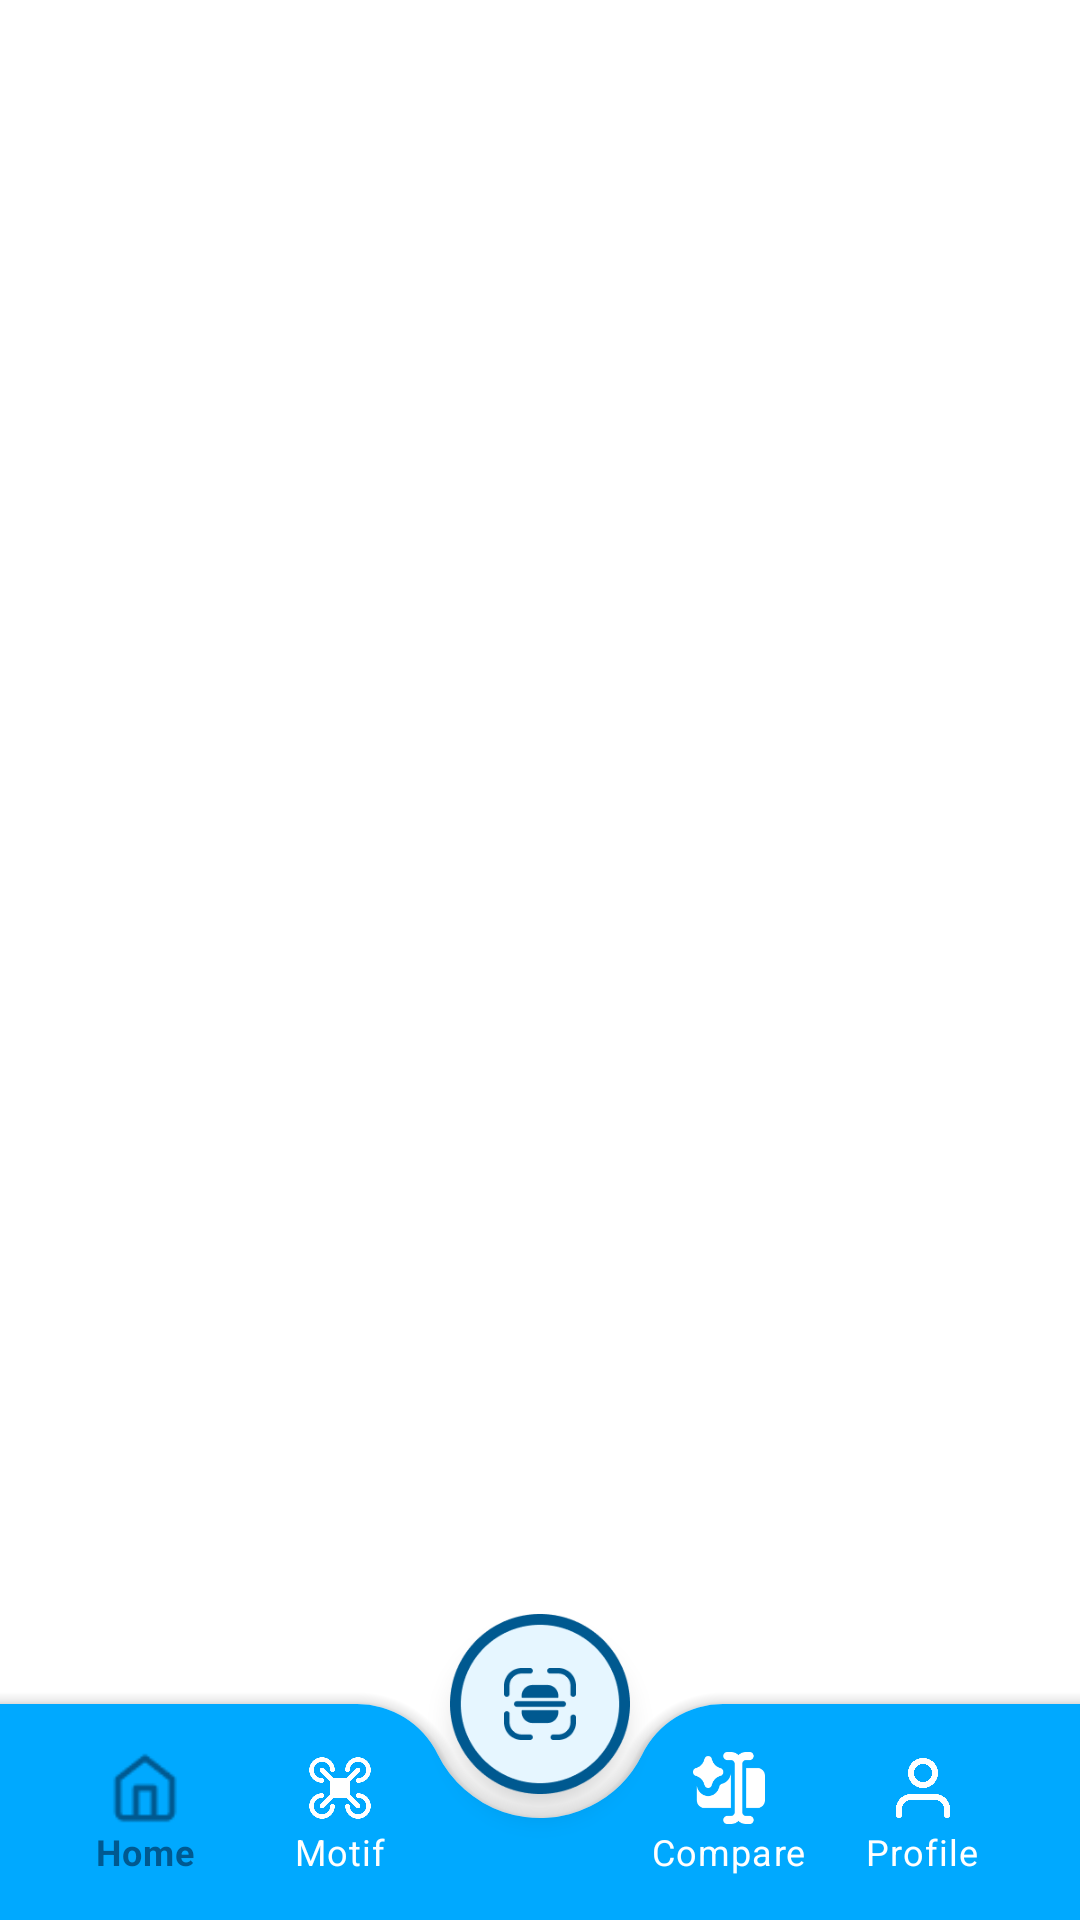

Icon click points for this 1080px×1920px phone screenshot, format [x,y]:
scanner: [540,1704]
